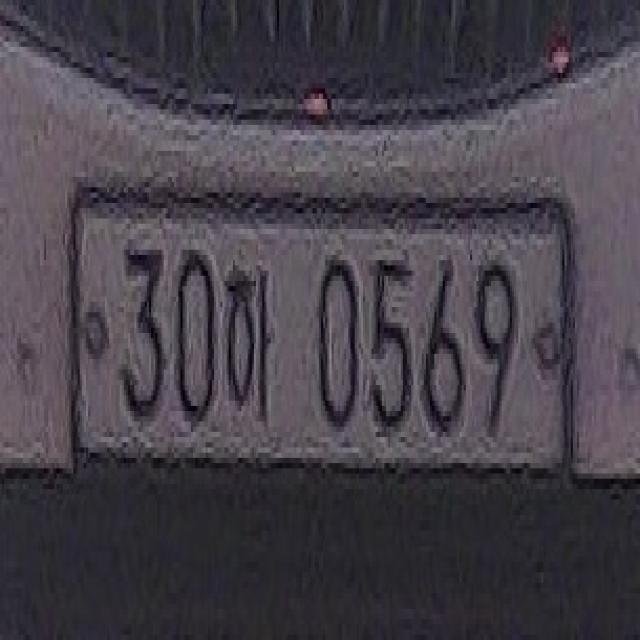0: (170, 239, 216, 437), (315, 255, 359, 437)
3: (117, 234, 168, 432)
5: (370, 250, 416, 437)
6: (420, 250, 468, 437)
9: (474, 250, 518, 437)
ha: (218, 255, 275, 427)
license_plate: (73, 192, 571, 484)
